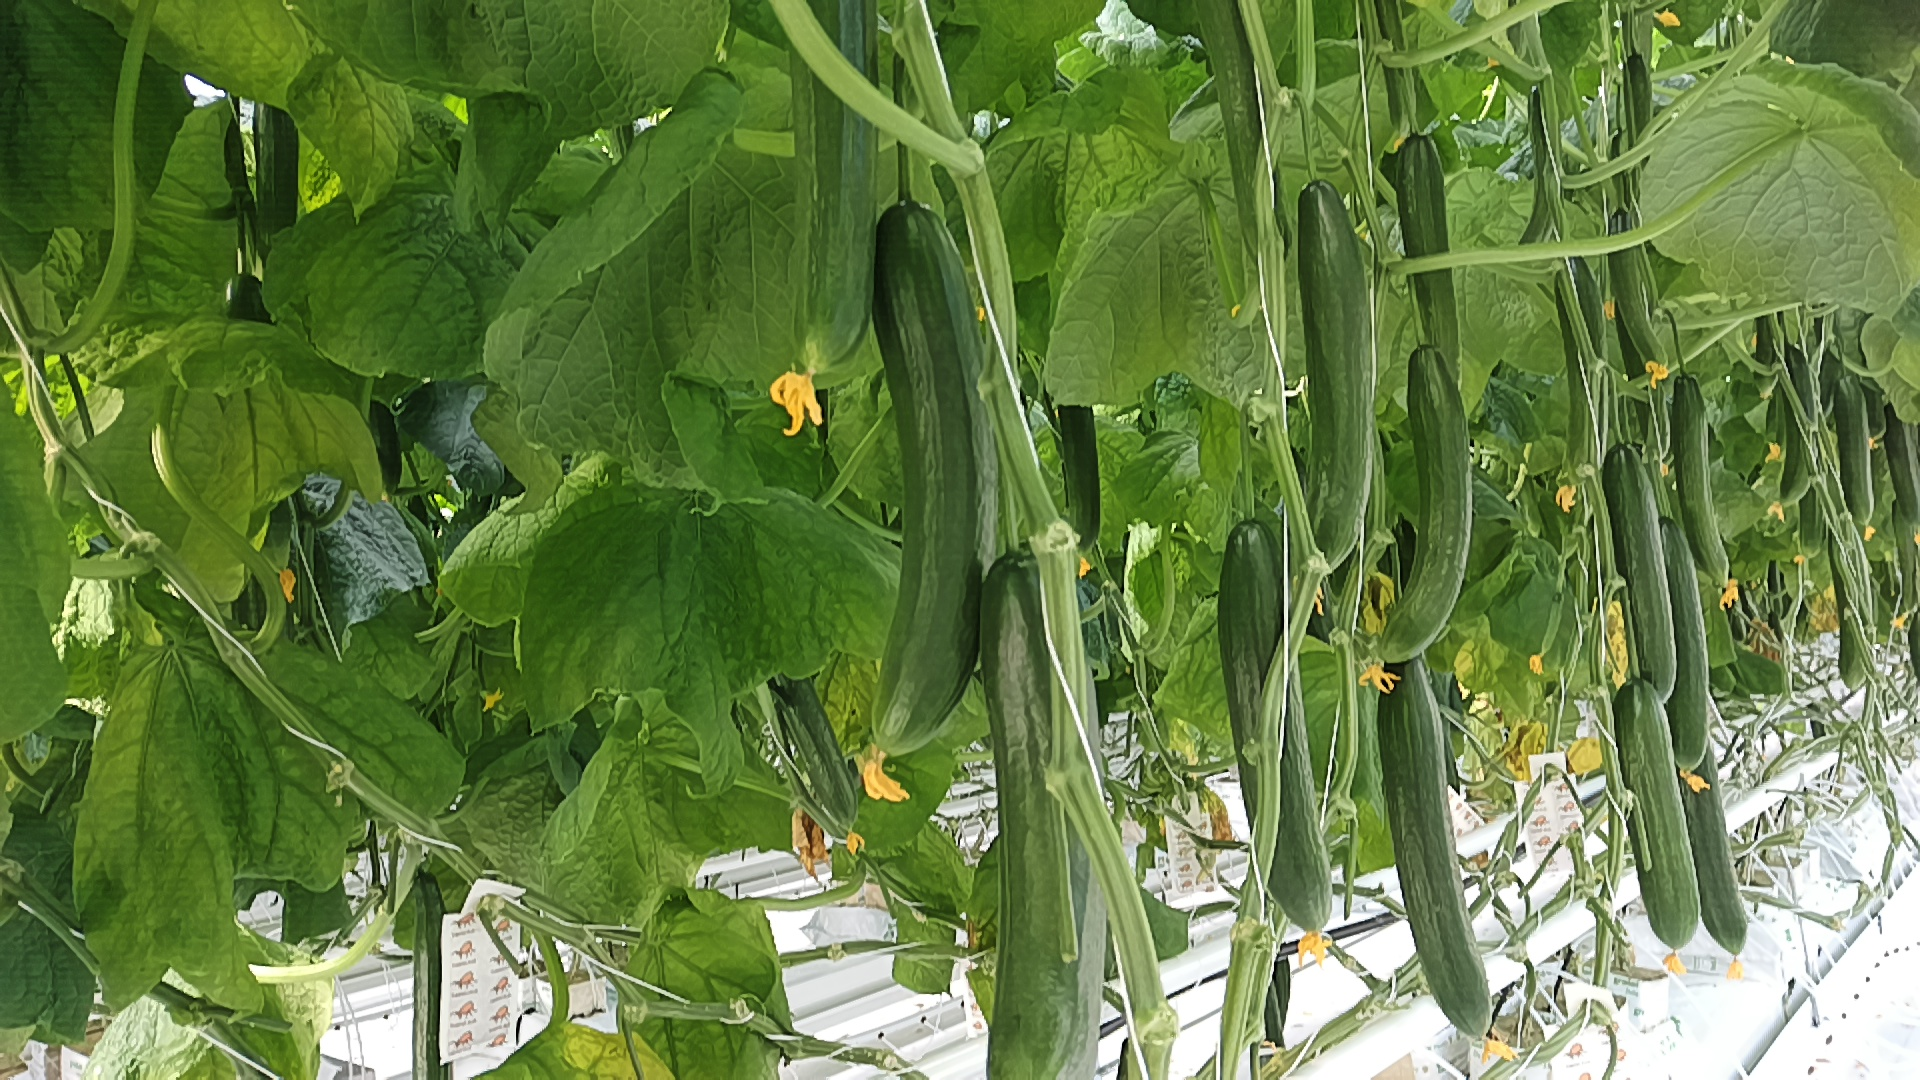gurka: (847, 193, 1021, 767), (1213, 512, 1367, 934), (1360, 628, 1516, 1040), (1276, 171, 1379, 600), (1364, 342, 1489, 683), (1597, 675, 1716, 949), (1391, 142, 1487, 417), (1596, 444, 1691, 699)
